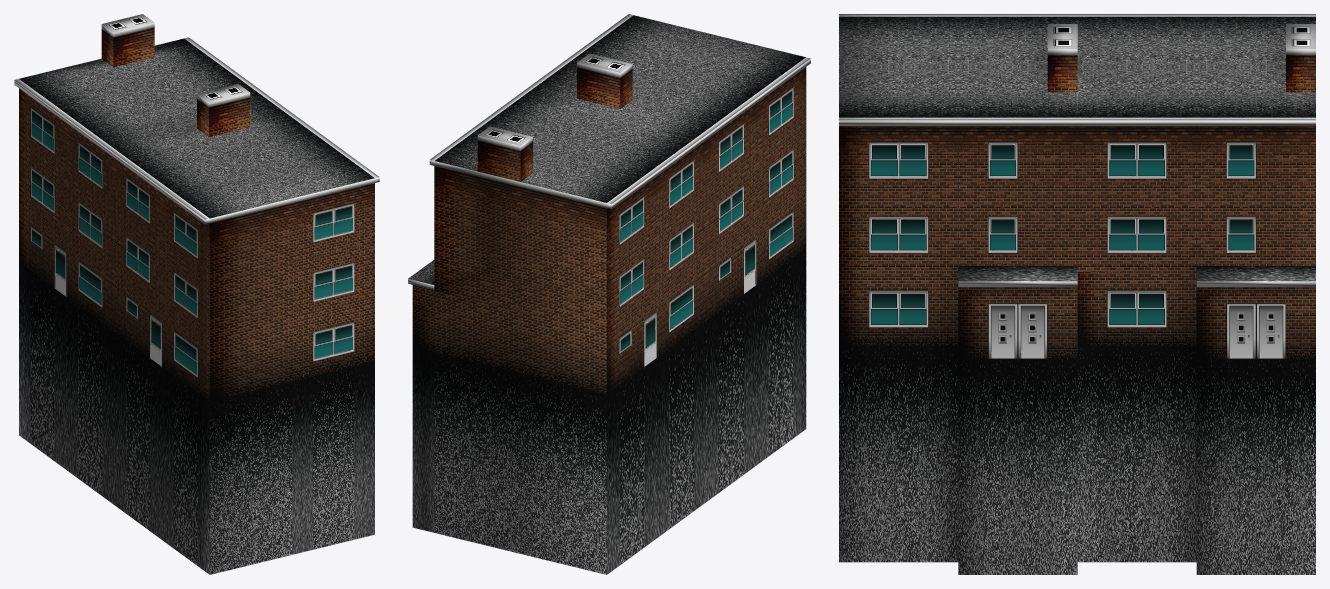
File: maisonet_mod1_2a.fbx
The picture shows the model from 3 angles, left to right: view 1: azimuth 30°, elevation 25°; view 2: azimuth 150°, elevation 25°; view 3: azimuth 270°, elevation 25°; orthographic projection. The views are drawn at different scales.
Visible parts, largest first — view 1: maisonet_mod1_2a; view 2: maisonet_mod1_2a; view 3: maisonet_mod1_2a.
Part boxes in pixels (x1,y1,x2,y2): maisonet_mod1_2a: [14, 14, 379, 574]; maisonet_mod1_2a: [408, 14, 810, 574]; maisonet_mod1_2a: [839, 14, 1315, 574].
Bounding box in the file's own units: 1062 × 2033 × 1800.
